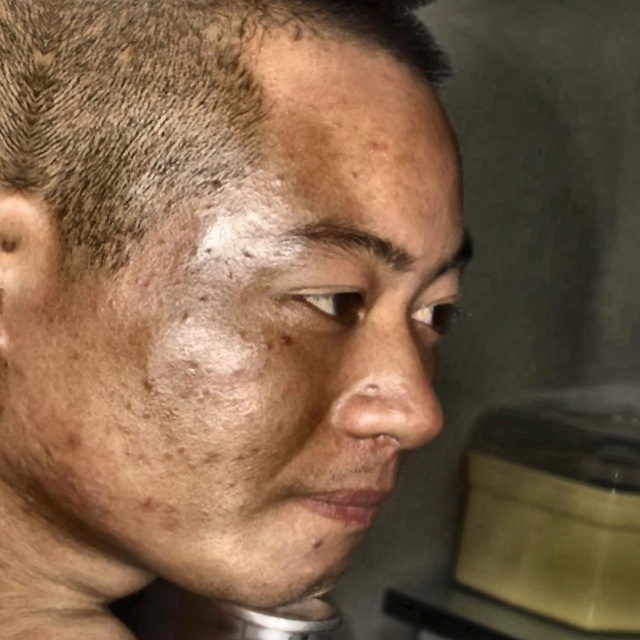comedone: (54, 420, 90, 465), (129, 356, 164, 399), (130, 480, 157, 520), (296, 529, 334, 555)
